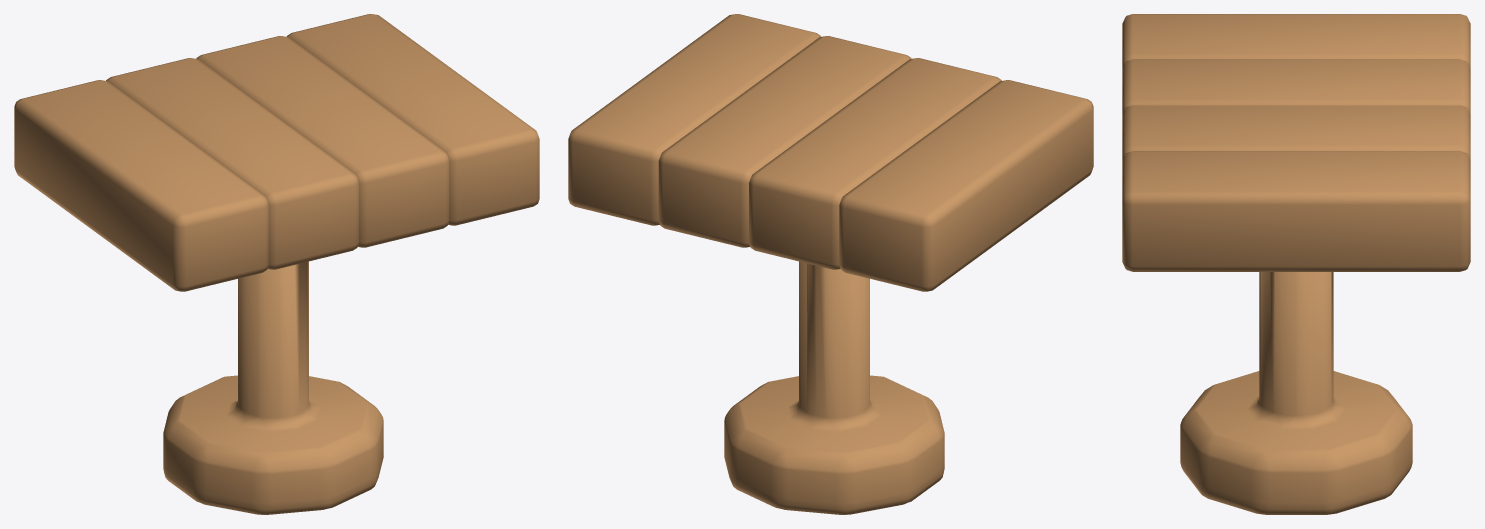
File: Furniture_Table_01.glb
3 renders of one model, left to right at view 1: azimuth 30°, elevation 25°; view 2: azimuth 150°, elevation 25°; view 3: azimuth 270°, elevation 25°, orthographic. The views are drawn at different scales.
Visible parts, largest first — view 1: SM_Furniture_Table_01; view 2: SM_Furniture_Table_01; view 3: SM_Furniture_Table_01.
Boxes of the visible parts, <box> form: SM_Furniture_Table_01: <box>14,14,539,514</box>; SM_Furniture_Table_01: <box>568,14,1093,514</box>; SM_Furniture_Table_01: <box>1122,14,1470,514</box>.
Bounding box in the file's own units: 1.34 × 1.25 × 1.06.
1 material, 1 textured.
